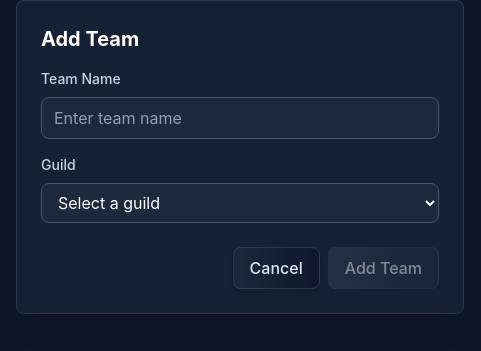
Test: TeamForm › Form Validation › shows name error when name is empty
The width and height of the screenshot is (481, 351).
Fill only guild
Select "Test Guild 1" in the dropdown labelled "Guild": (240, 203) [41,183,439,223]
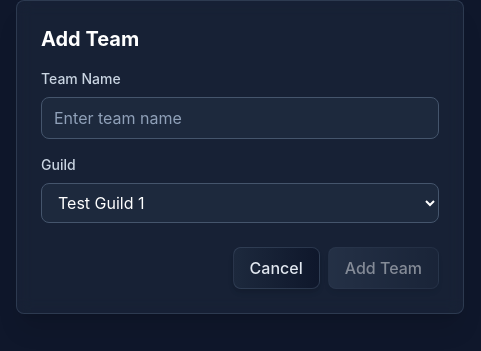
Submit the form with test id "team-form-submit"
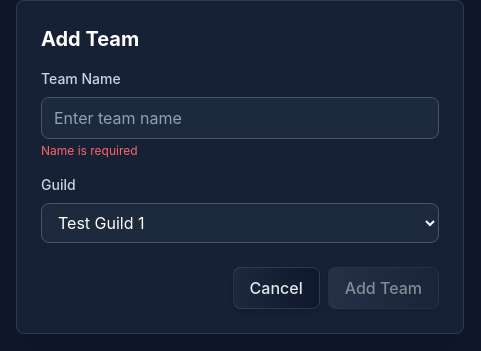
Expected: the text "Name is required" is shown, [41,143,138,158]
